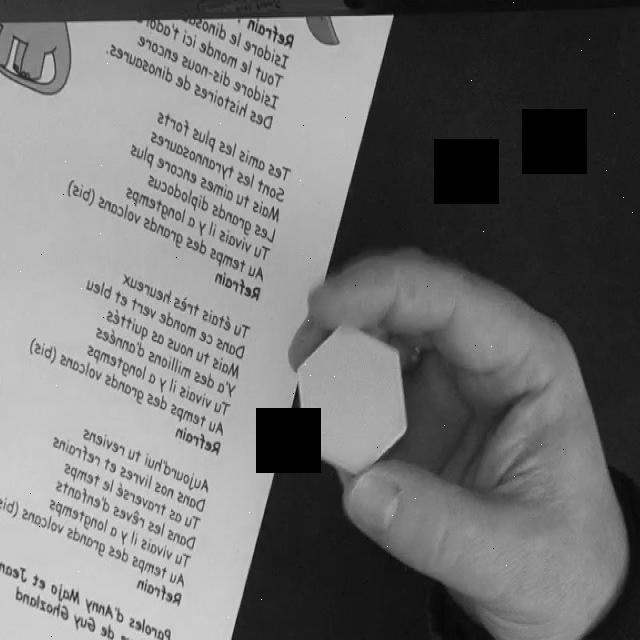hexagon: (294, 326, 409, 474)
